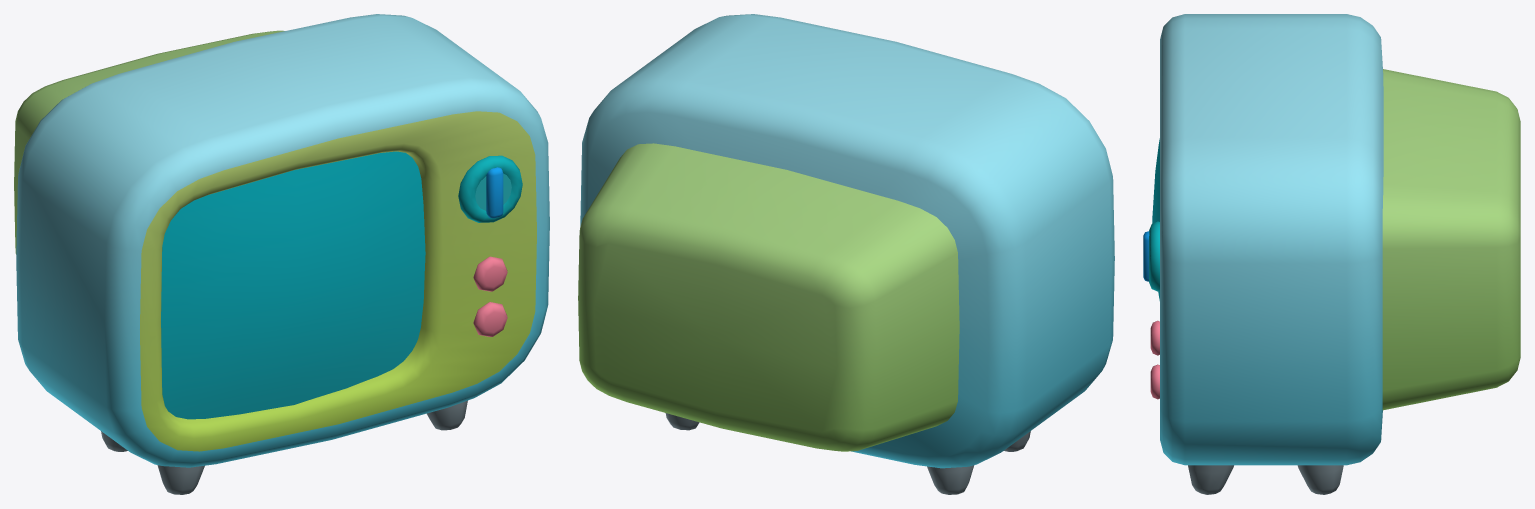
3 views of the same model, side by side, from view 1: azimuth 30°, elevation 25°; view 2: azimuth 150°, elevation 25°; view 3: azimuth 270°, elevation 25° (orthographic). The views are drawn at different scales.
Parts seen in each view (by area): view 1: TV_05; view 2: TV_05; view 3: TV_05.
Part boxes in pixels (x1,y1,x2,y2): TV_05: [14, 14, 549, 494]; TV_05: [578, 14, 1114, 494]; TV_05: [1143, 14, 1520, 494].
Bounding box in the file's own units: 0.4943 × 0.3892 × 0.3796.
Materials: 1 (1 with a texture image).
